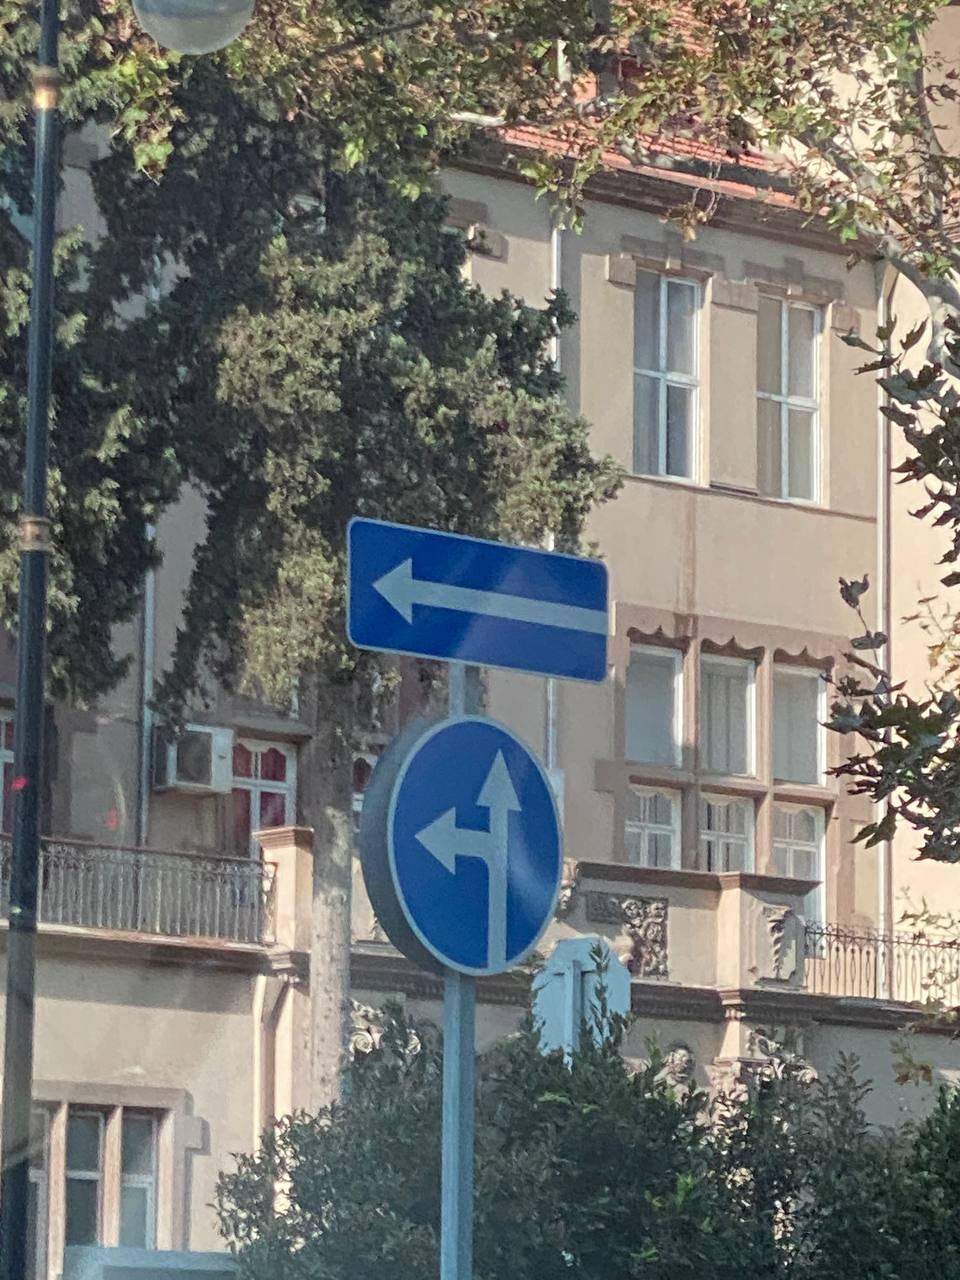One-Way Traffic: (347, 517, 611, 684)
Straight or Left: (385, 714, 564, 977)
